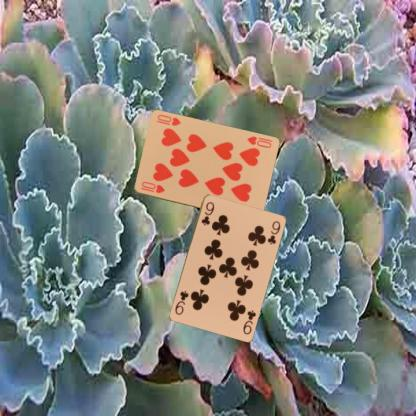10h: (244, 134, 273, 150), (138, 179, 166, 195)
9c: (240, 307, 257, 336), (198, 199, 216, 226)
